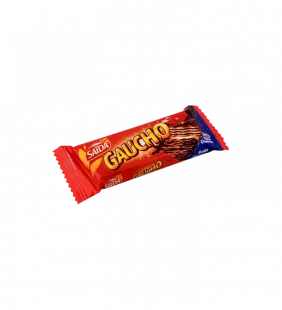GAUCHO: (48, 104, 232, 208)
